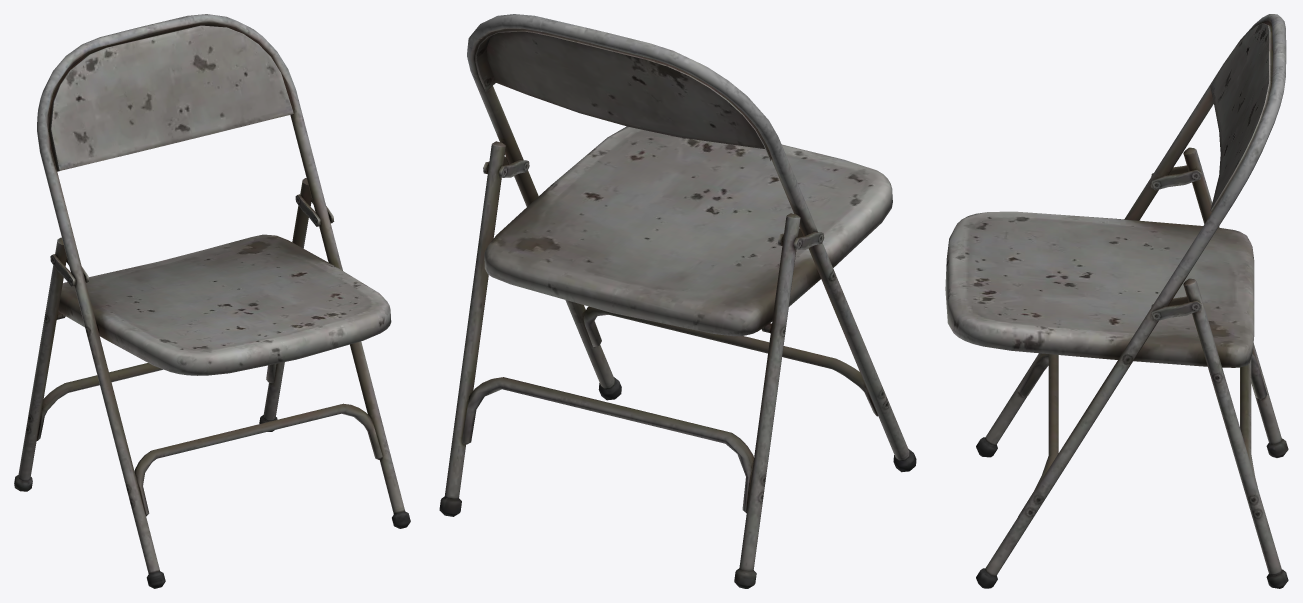
File: folding_chair_a_clean_white.glb
3 views of the same model, side by side, from view 1: azimuth 30°, elevation 25°; view 2: azimuth 150°, elevation 25°; view 3: azimuth 270°, elevation 25° (orthographic). The views are drawn at different scales.
Parts seen in each view (by area): view 1: folding_chair_a_clean_white; view 2: folding_chair_a_clean_white; view 3: folding_chair_a_clean_white.
Part boxes in pixels (x1,y1,x2,y2): folding_chair_a_clean_white: (14, 14, 410, 588); folding_chair_a_clean_white: (439, 14, 916, 588); folding_chair_a_clean_white: (945, 14, 1288, 588).
Size of the model in its own units: 0.5596 by 0.8886 by 0.5817.
1 material, 1 textured.
